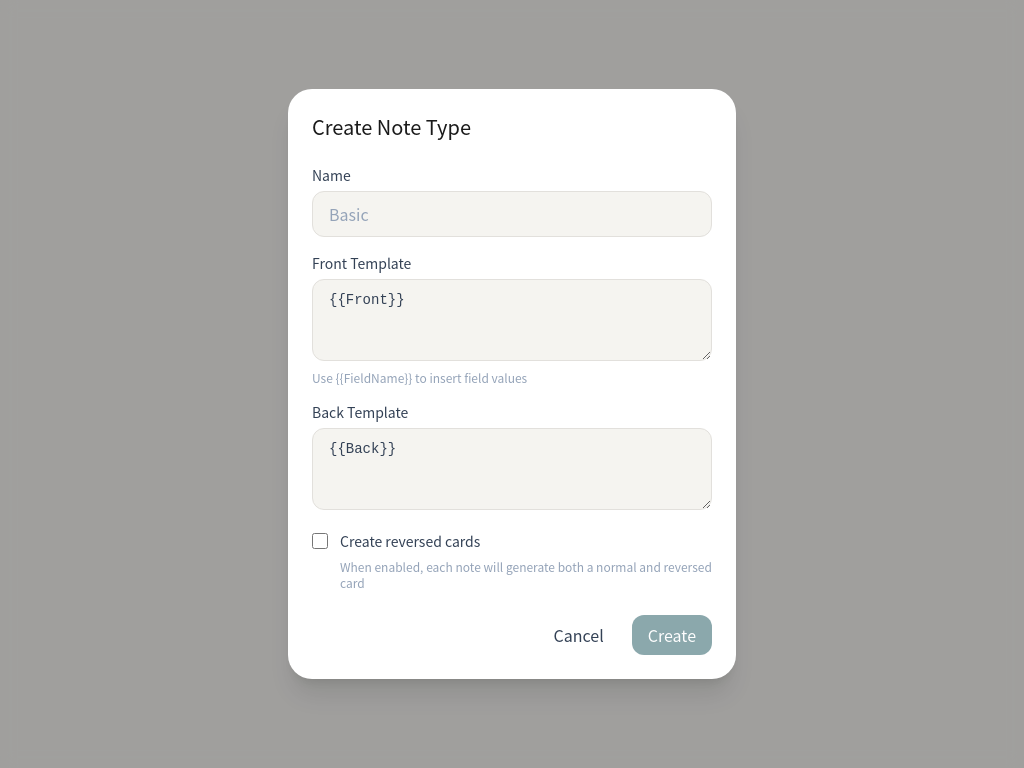
Test case: CreateNoteTypeModal › enables create button when name has content
Type "My Note Type" into the field labelled "Name" at (512,214), box [312,191,712,237]
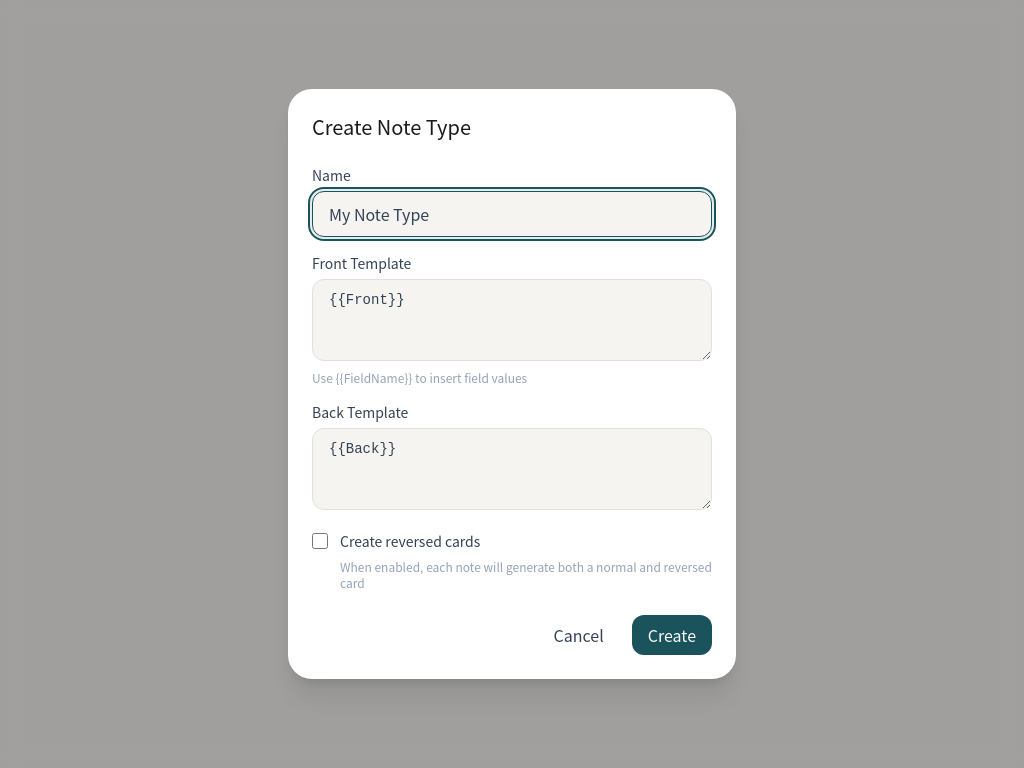
Expected: the button "Create" is enabled, [632,615,712,655]
